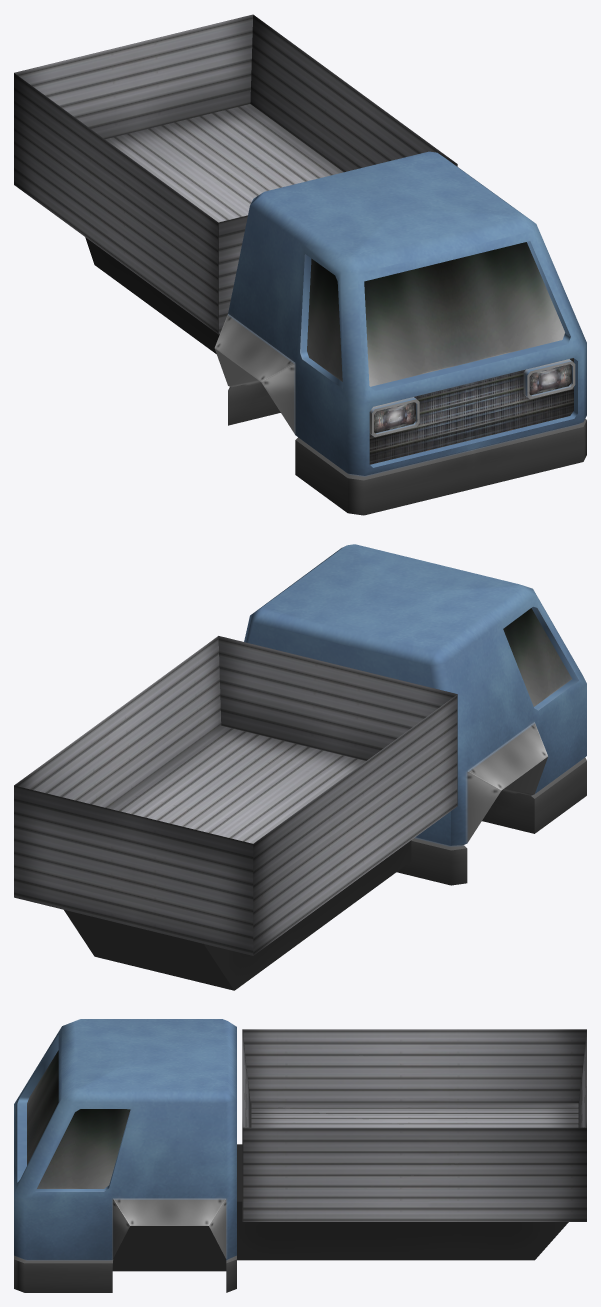
File: Car-TireTruck.fbx
The picture shows the model from 3 angles, top to bottom: view 1: azimuth 30°, elevation 25°; view 2: azimuth 150°, elevation 25°; view 3: azimuth 270°, elevation 25°; orthographic projection. The views are drawn at different scales.
Visible parts, largest first — view 1: pCube35; view 2: pCube35; view 3: pCube35.
Boxes of the visible parts, bbox=[...] form: pCube35: bbox=[14, 14, 586, 515]; pCube35: bbox=[14, 544, 586, 990]; pCube35: bbox=[14, 1019, 586, 1292].
Bounding box in the file's own units: 0.536 × 0.4 × 1.1.
